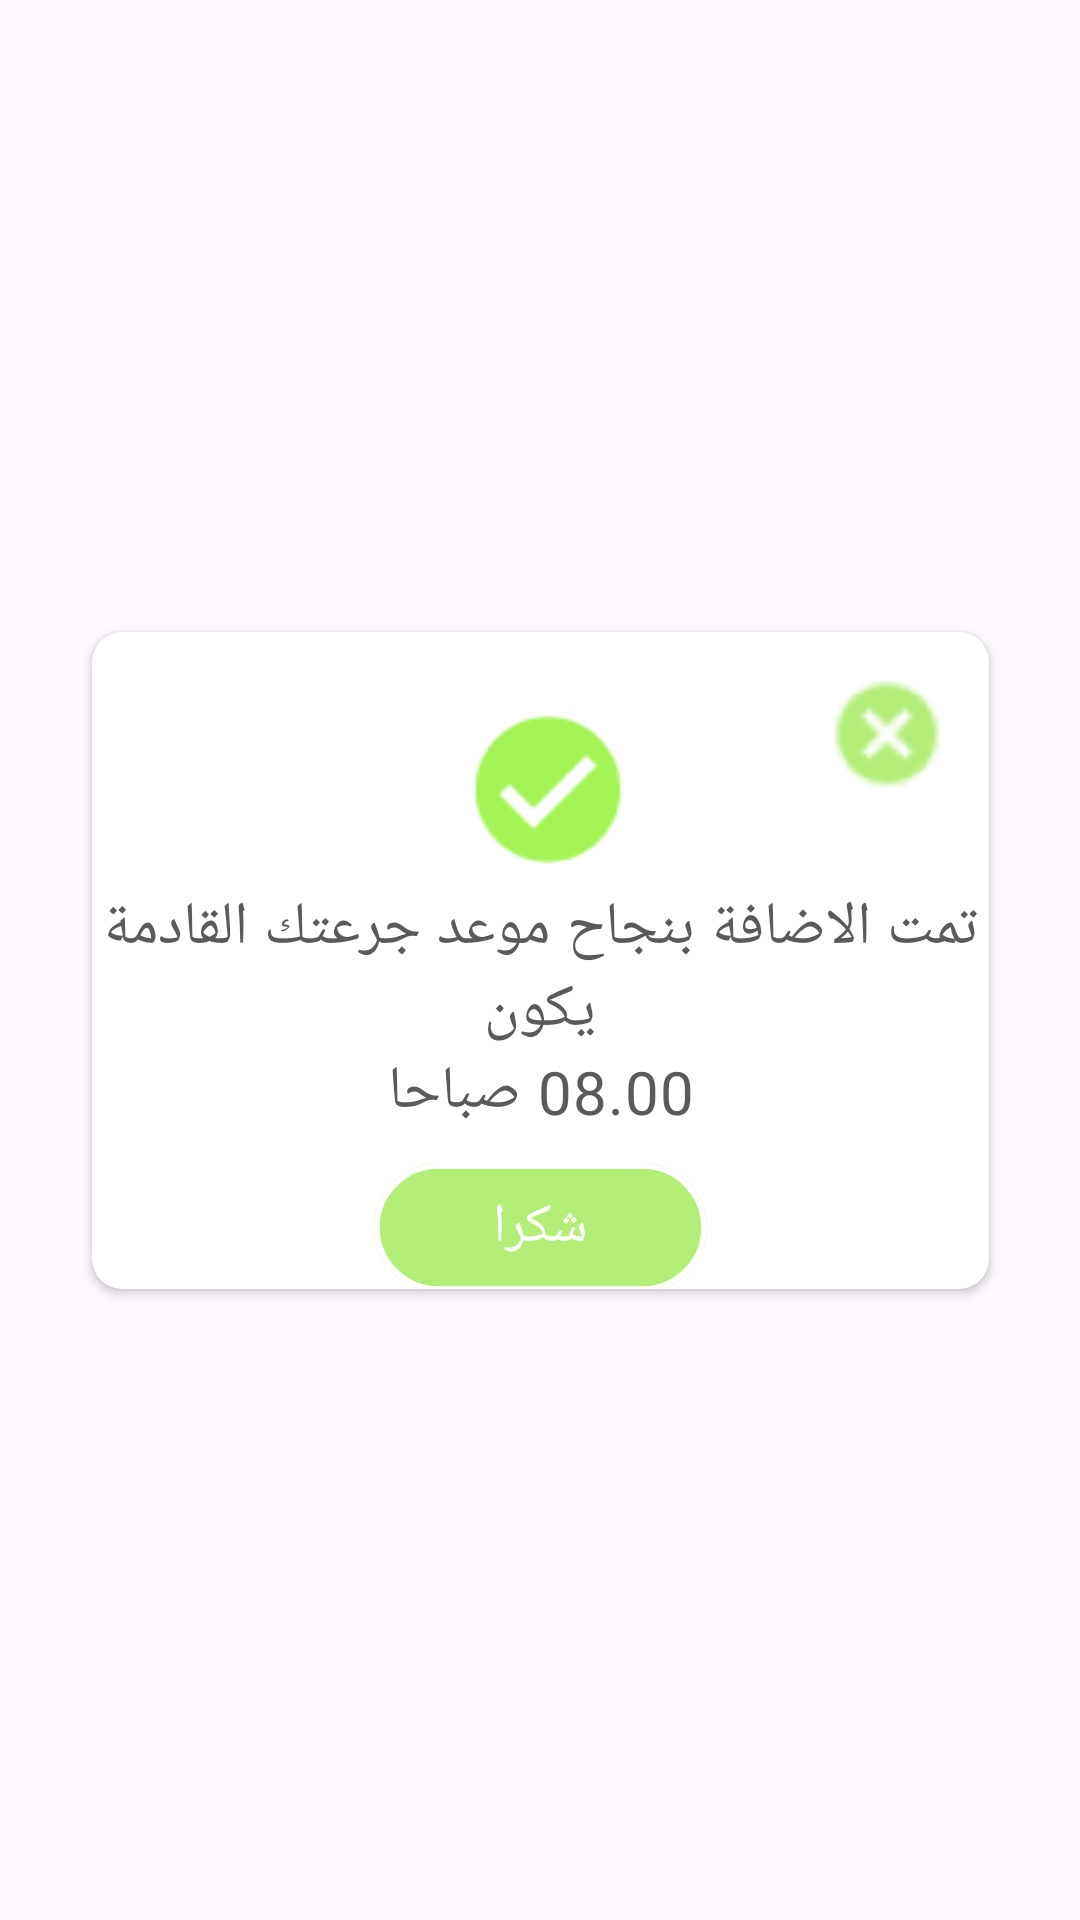

Named icons in this screenshot (1080 × 1920) and their centers, (x=x, y=y):
cancel: (x=887, y=734)
